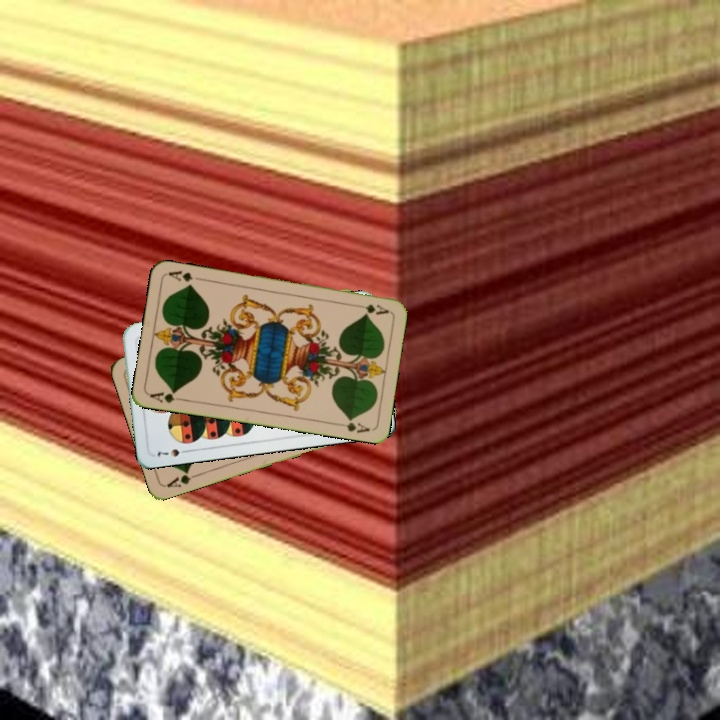GA: (162, 466, 202, 490), (146, 387, 187, 405), (351, 300, 391, 317)
S7: (153, 445, 192, 460)
